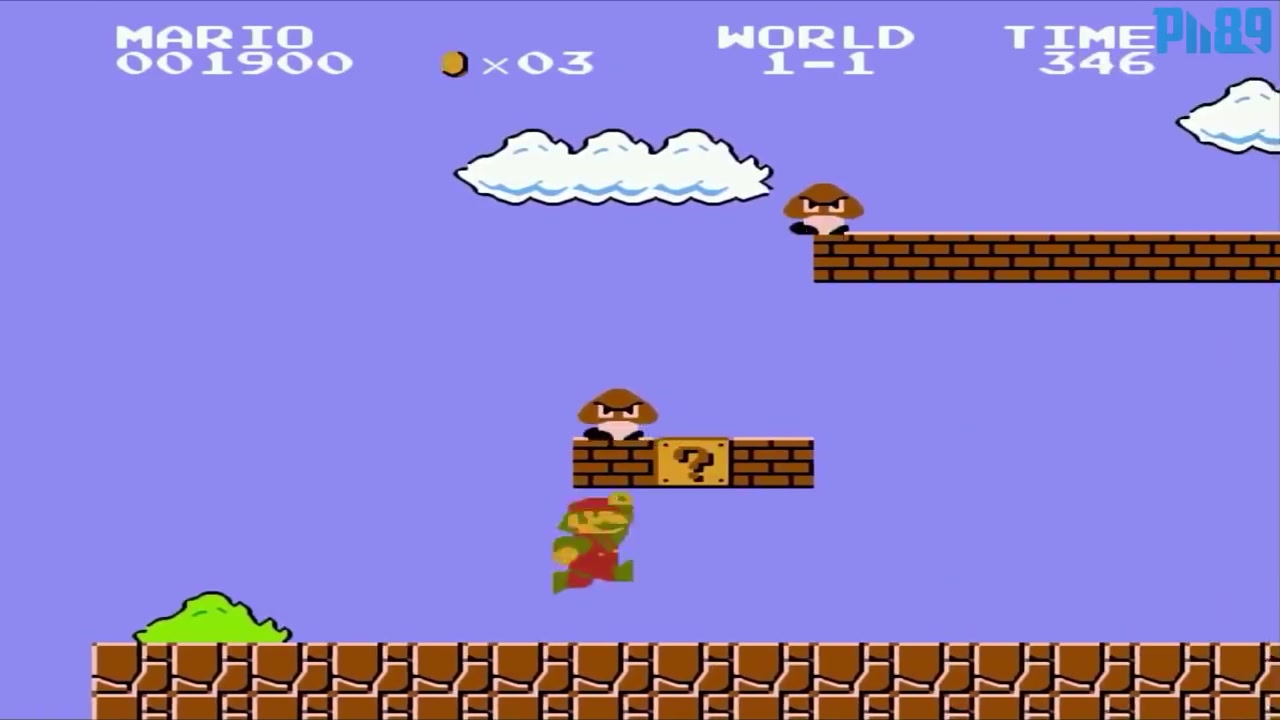mario: (536, 487, 653, 590)
